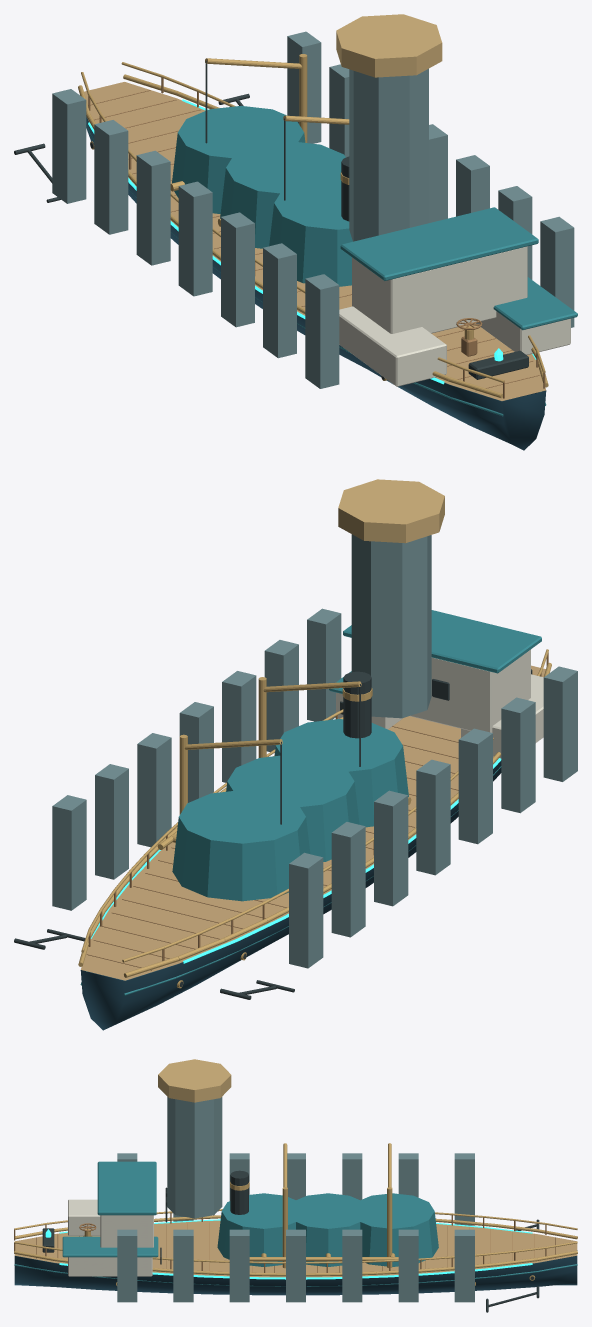
The model's file is ship_tanker.glb.
3 renders of one model, top to bottom at view 1: azimuth 30°, elevation 25°; view 2: azimuth 150°, elevation 25°; view 3: azimuth 270°, elevation 25°, orthographic. The views are drawn at different scales.
Parts seen in each view (by area): view 1: ship_tanker; view 2: ship_tanker; view 3: ship_tanker.
Boxes of the visible parts, <box> form: ship_tanker: <box>14,14,577,450</box>; ship_tanker: <box>14,479,577,1030</box>; ship_tanker: <box>14,1059,577,1312</box>.
Size of the model in its own units: 7.31 by 8.67 by 21.05.
